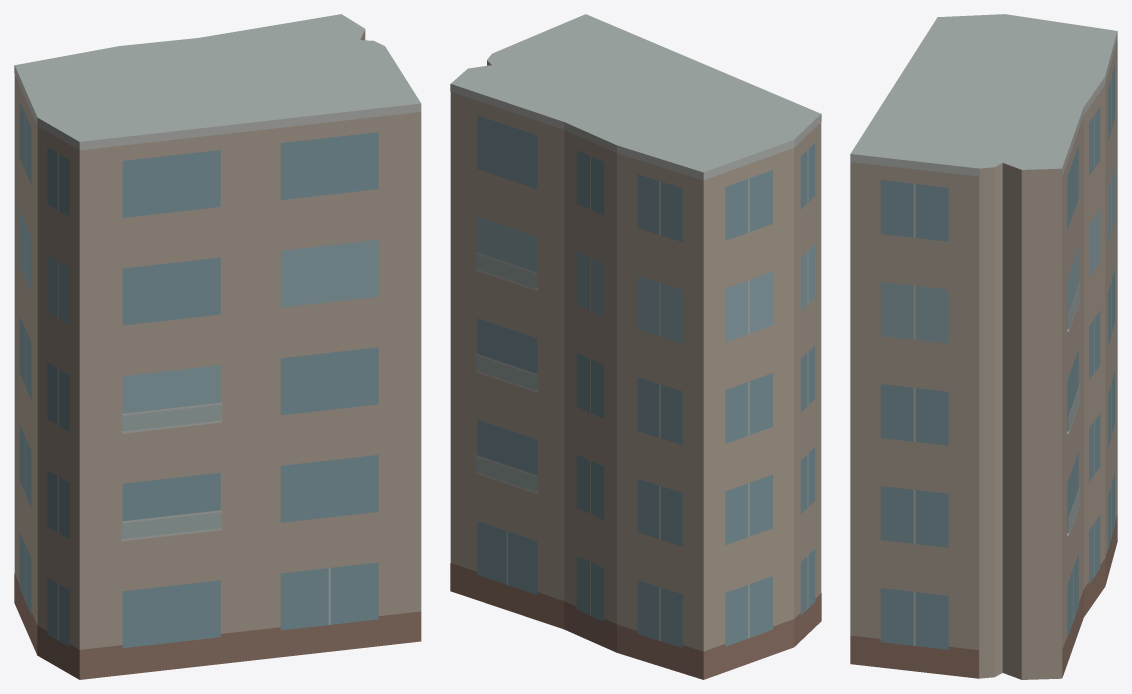
Rendered from survey-upis-32458616.glb.
3 renders of one model, left to right at view 1: azimuth 30°, elevation 25°; view 2: azimuth 150°, elevation 25°; view 3: azimuth 270°, elevation 25°, orthographic. The views are drawn at different scales.
Parts seen in each view (by area): view 1: survey-upis-32458616.tmp; view 2: survey-upis-32458616.tmp; view 3: survey-upis-32458616.tmp.
Part boxes in pixels (bbox=[...]): survey-upis-32458616.tmp: bbox=[14, 14, 421, 679]; survey-upis-32458616.tmp: bbox=[450, 14, 821, 679]; survey-upis-32458616.tmp: bbox=[850, 14, 1117, 679].
Size of the model in its own units: 10.23 by 15.6 by 7.42.
